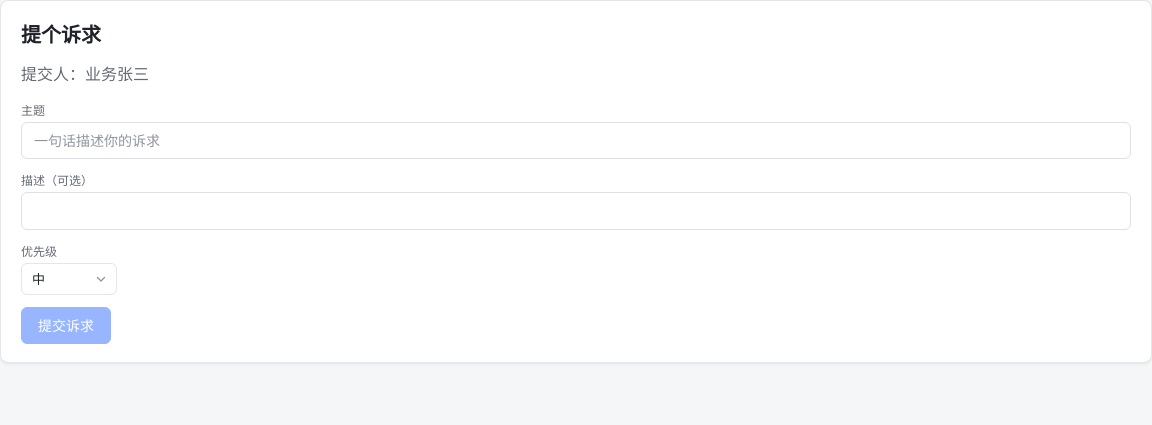
Test: DemandSubmitPage › keeps the form and shows an error when submit fails (TC-DL-07)
Step 1. Type "保留我" into the field with test id "demand-submit-title" → [576, 140], box [21,122,1131,159]
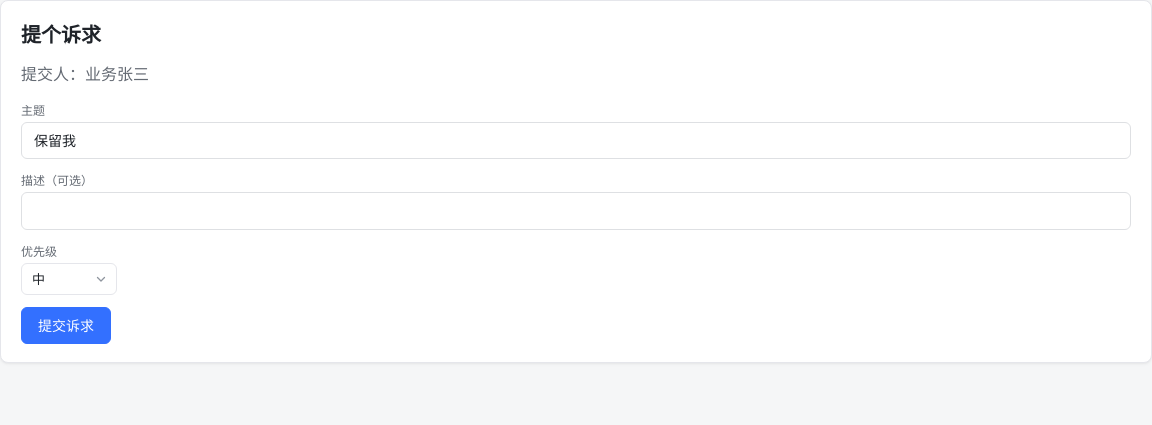
Step 2. Click the button with test id "demand-submit-btn" → [66, 326], box [21,307,111,344]
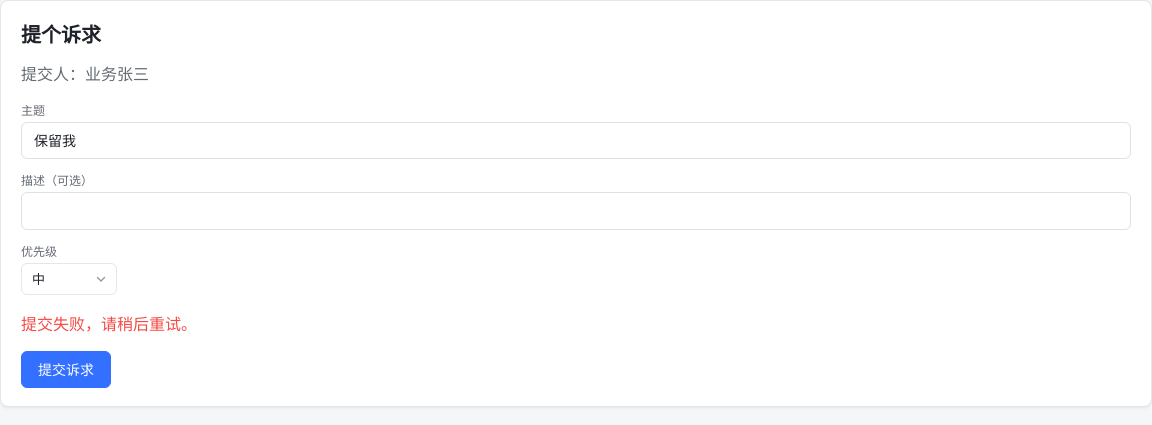
Expected: the text "提交失败，请稍后重试。" is shown, [21,314,197,334]
